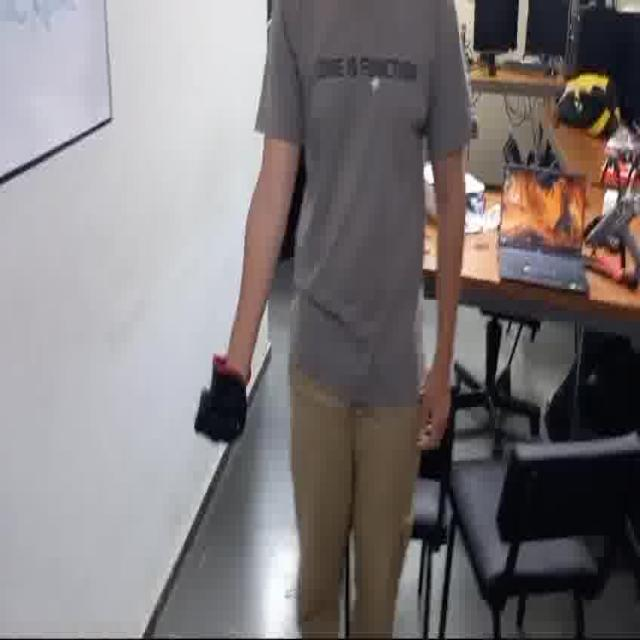Gloves: (193, 366, 249, 450)
